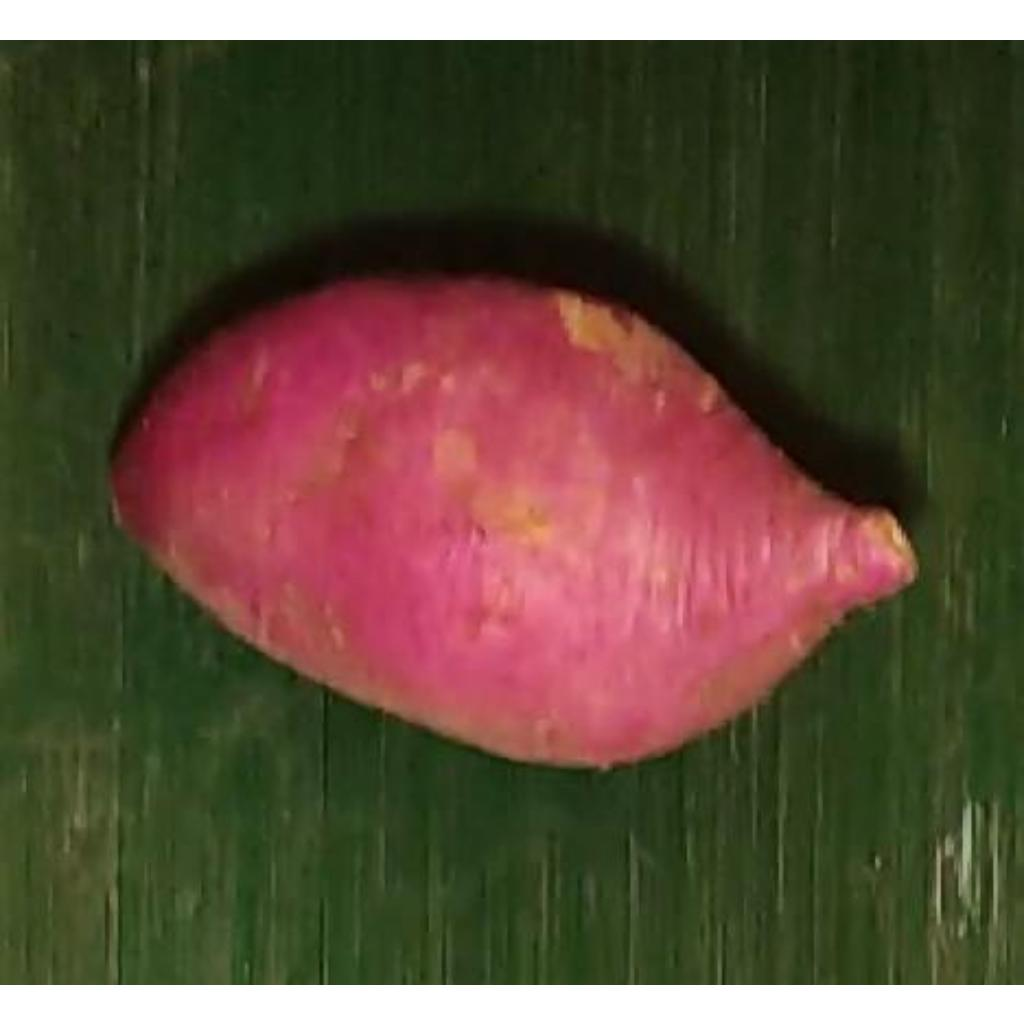Sweet Potato: (107, 277, 919, 772)
